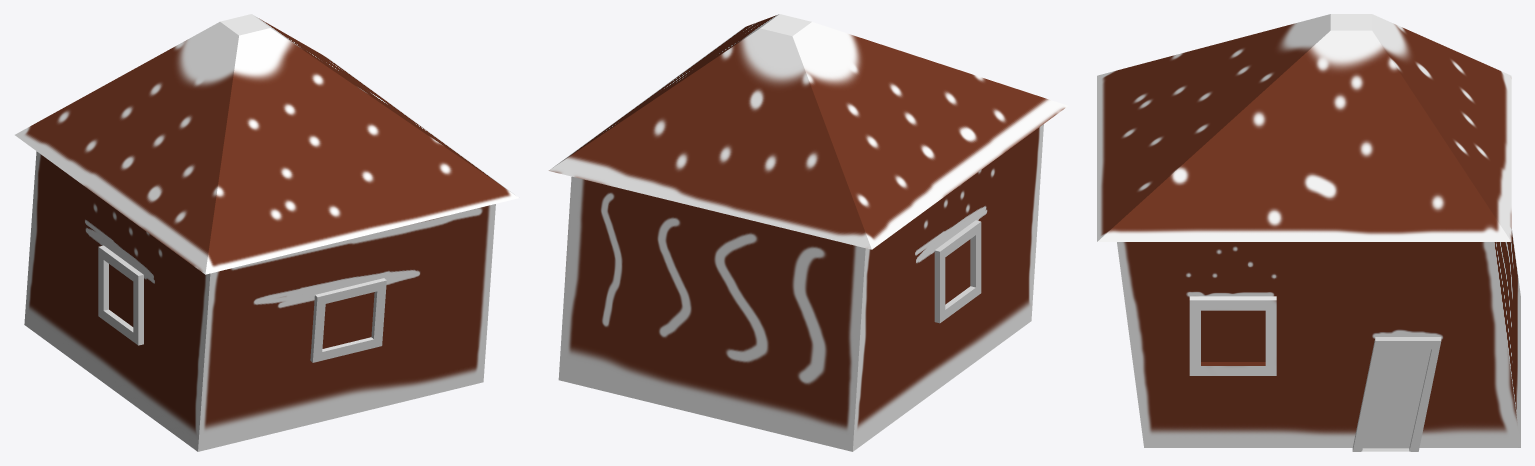
The model's file is gingerbread_house.fbx.
3 views of the same model, side by side, from view 1: azimuth 30°, elevation 25°; view 2: azimuth 150°, elevation 25°; view 3: azimuth 270°, elevation 25° (orthographic). The views are drawn at different scales.
Parts seen in each view (by area): view 1: Cube, Cube.003, Cube.002; view 2: Cube, Cube.002; view 3: Cube, Cube.001.
Boxes of the visible parts, bbox=[...] form: Cube: bbox=[15, 14, 518, 451]; Cube.003: bbox=[310, 278, 386, 362]; Cube.002: bbox=[98, 245, 143, 345]; Cube: bbox=[548, 14, 1067, 451]; Cube.002: bbox=[934, 220, 981, 323]; Cube: bbox=[1097, 14, 1520, 447]; Cube.001: bbox=[1352, 337, 1441, 451].
Size of the model in its own units: 418 by 410 by 450.
Materials: 1 (1 with a texture image).
